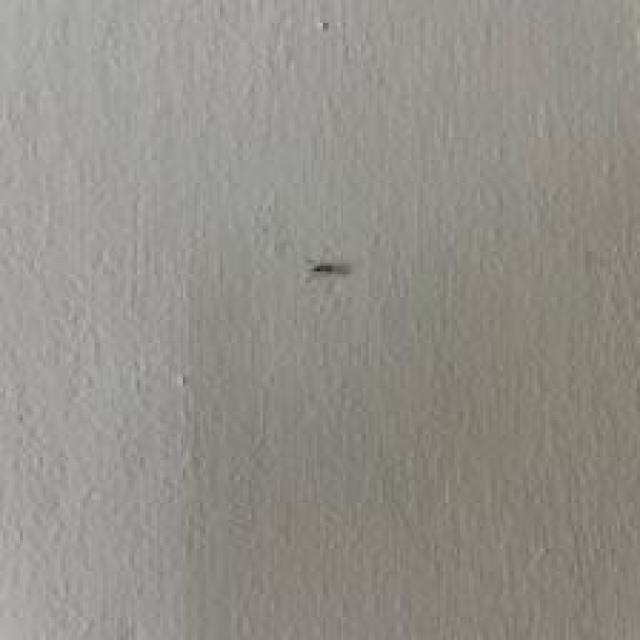Culex: (308, 261, 352, 276)
